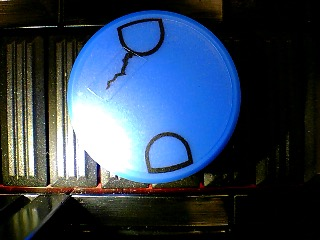CRACK: (66, 10, 242, 185)
